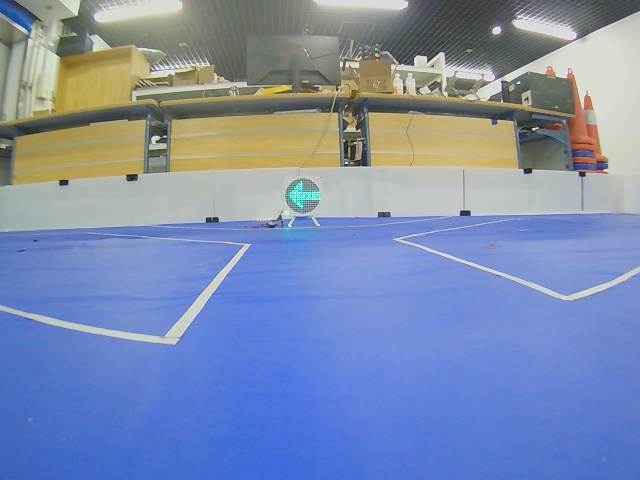left_green: (285, 179, 321, 213)
